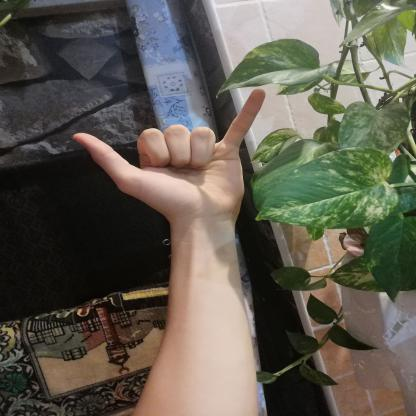YA: (58, 80, 277, 233)
